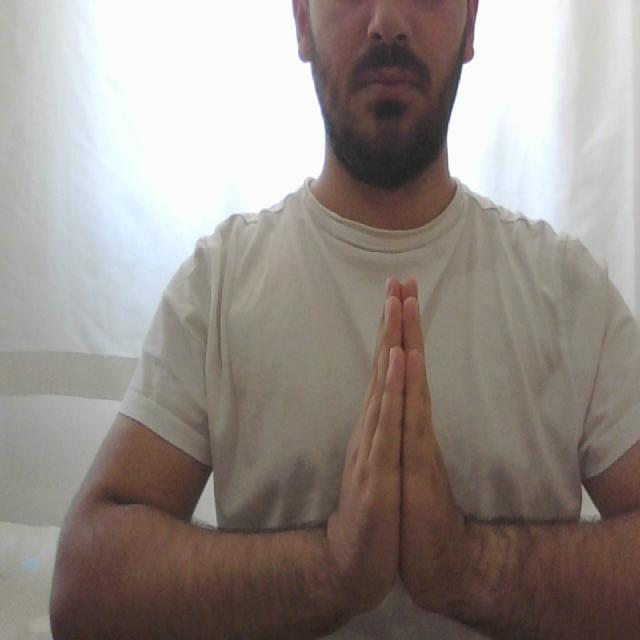Ozur-Dilemek: (328, 261, 474, 616)
